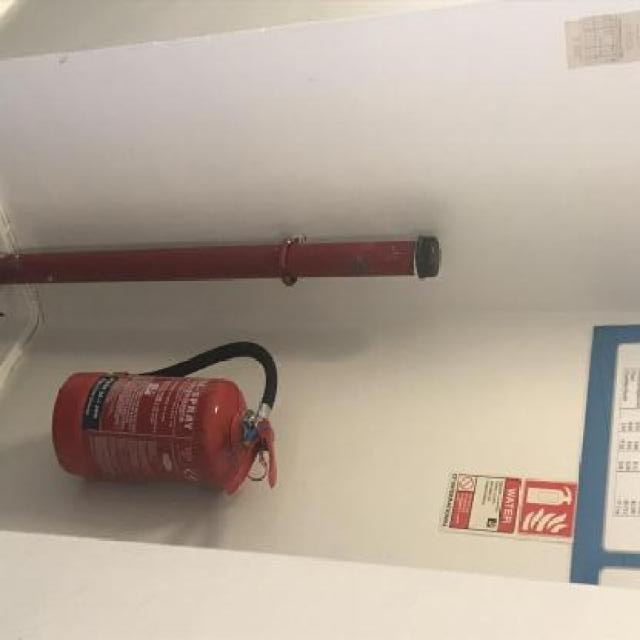fire extinguisher: (51, 345, 284, 497)
